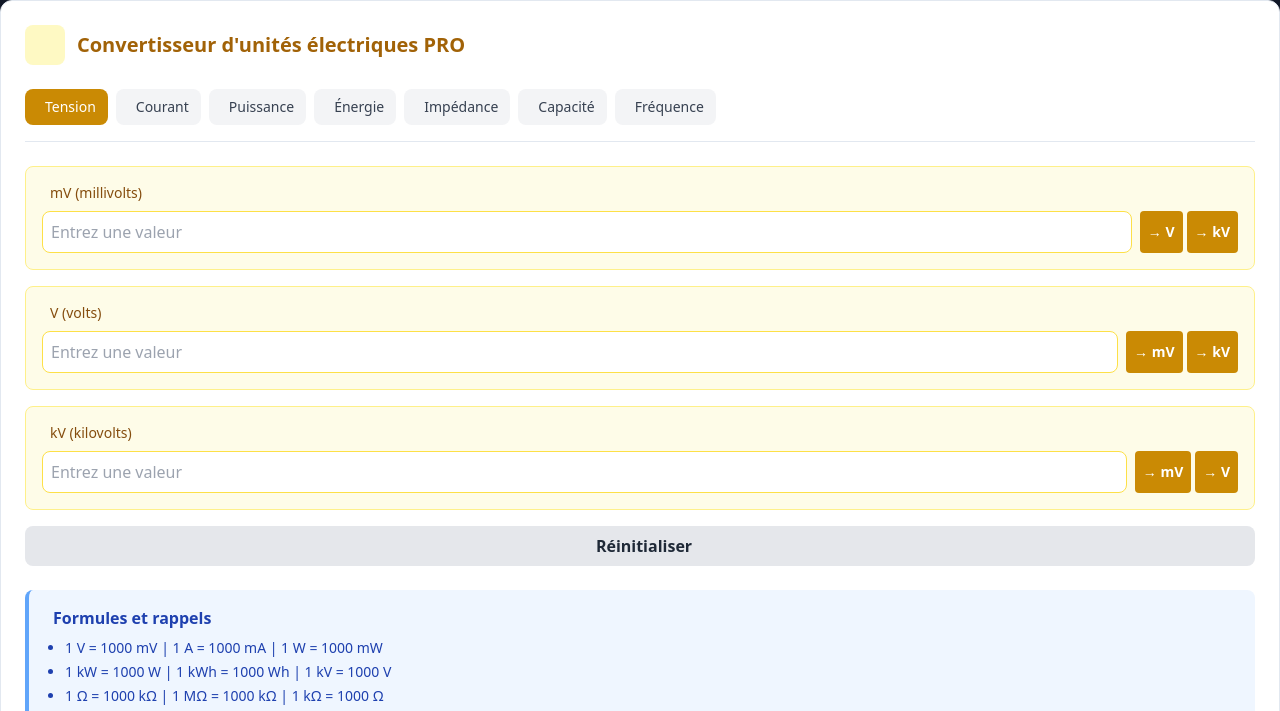
ElectricalUnitConverter › handles courant (current) conversions
The width and height of the screenshot is (1280, 711).
Click the button with aria-label "Afficher les conversions de Courant".
click(158, 107)  # box [116,89,201,125]
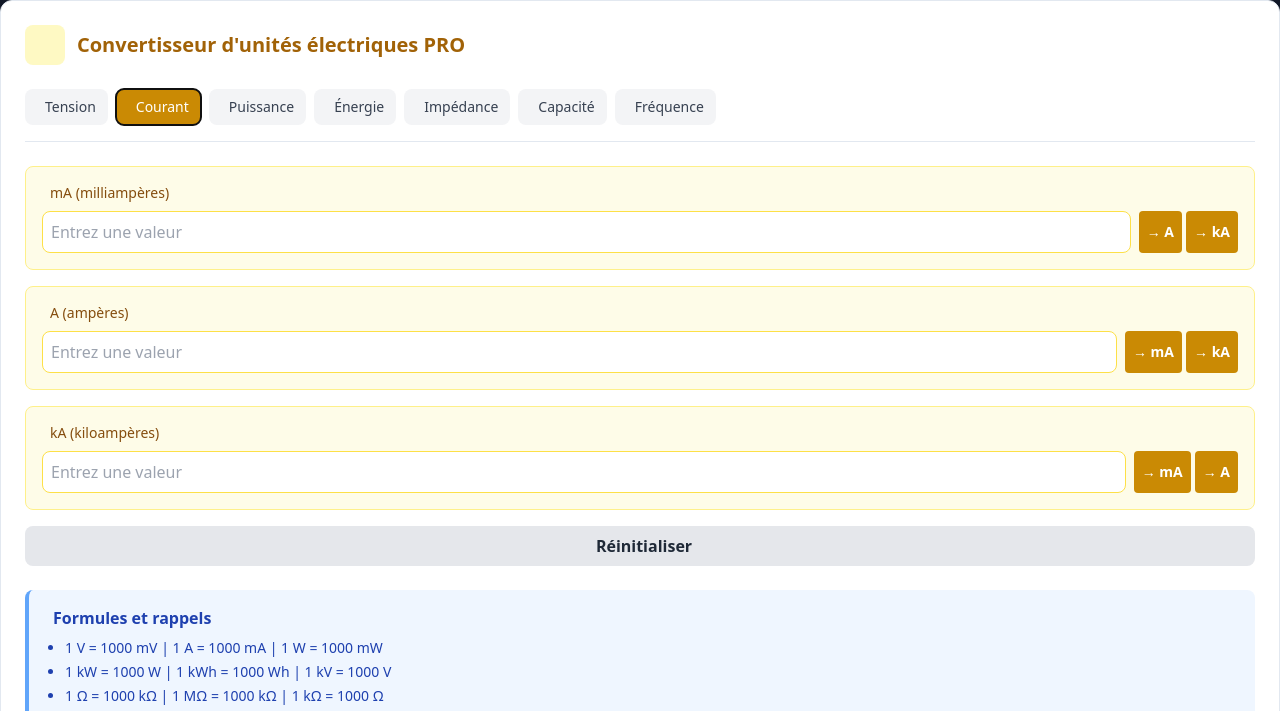
Type "1000" into the number field named "Valeur en mA".
click(586, 232); type("1000")  # box [42,211,1131,253]
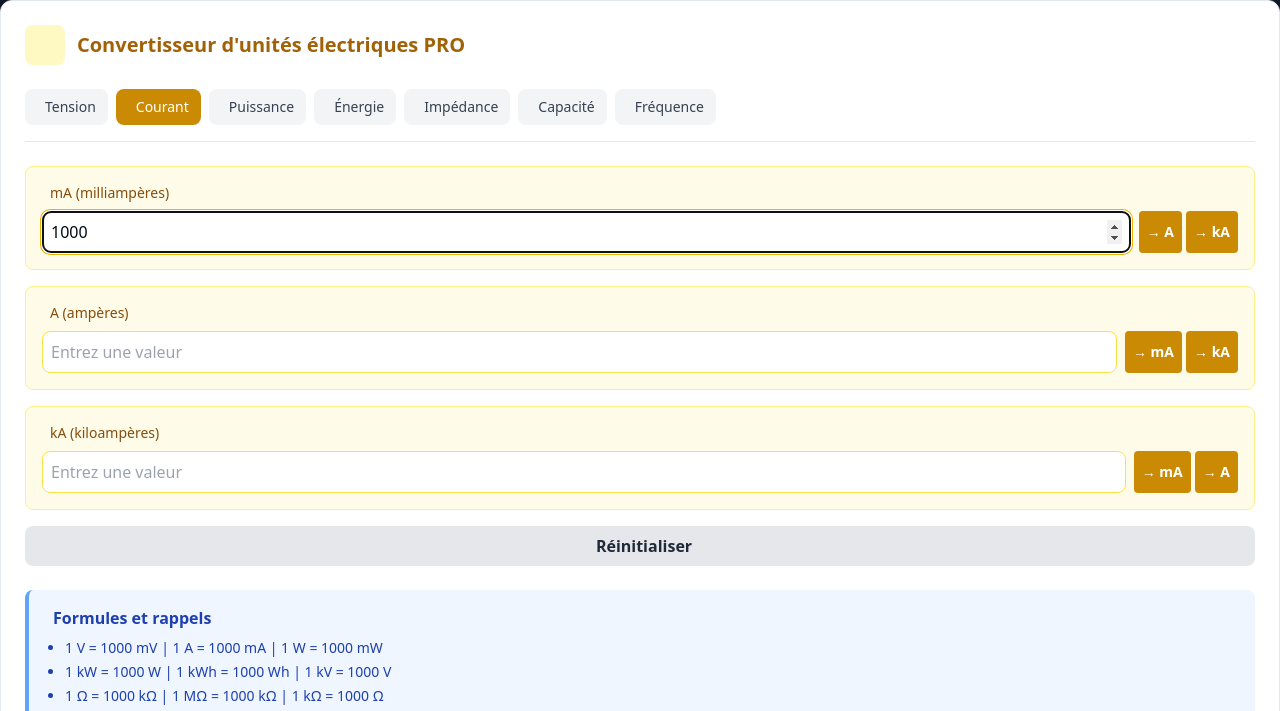
Click the 1st button titled "Convertir mA en A".
click(1160, 232)  # box [1139,211,1182,253]
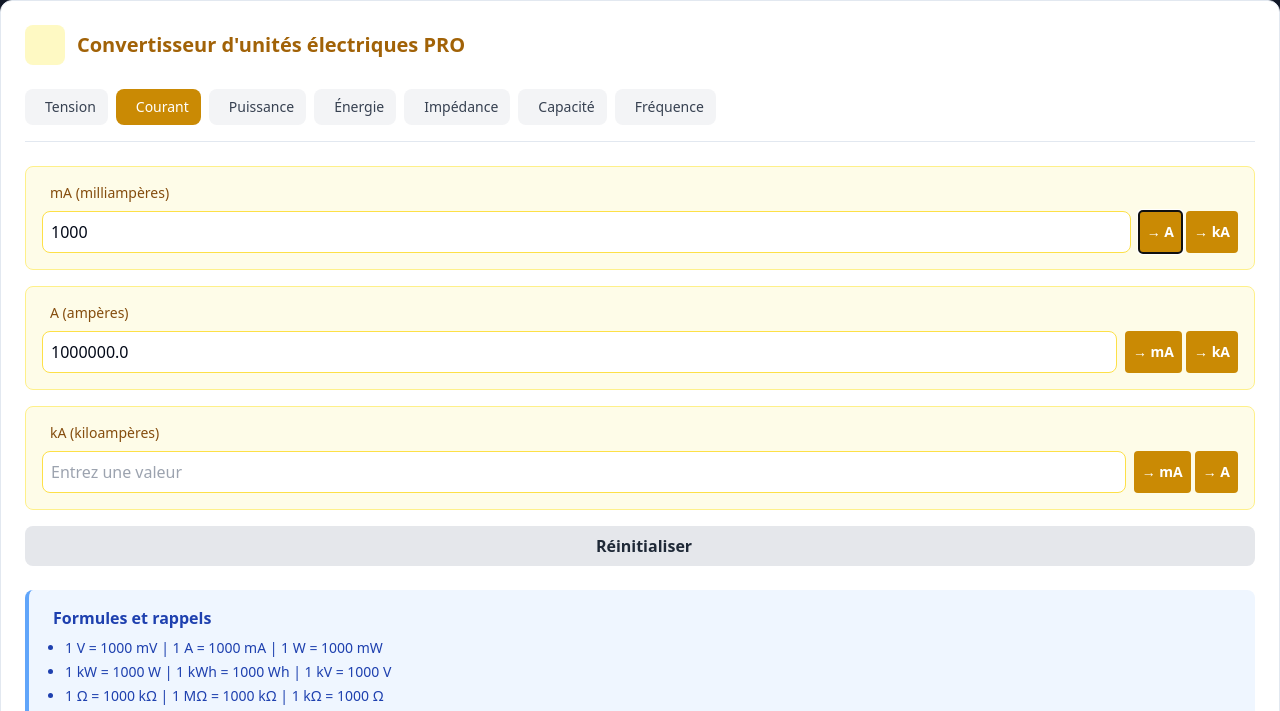
Check: the number field showing "1000000" is shown, box [42,331,1117,373]
